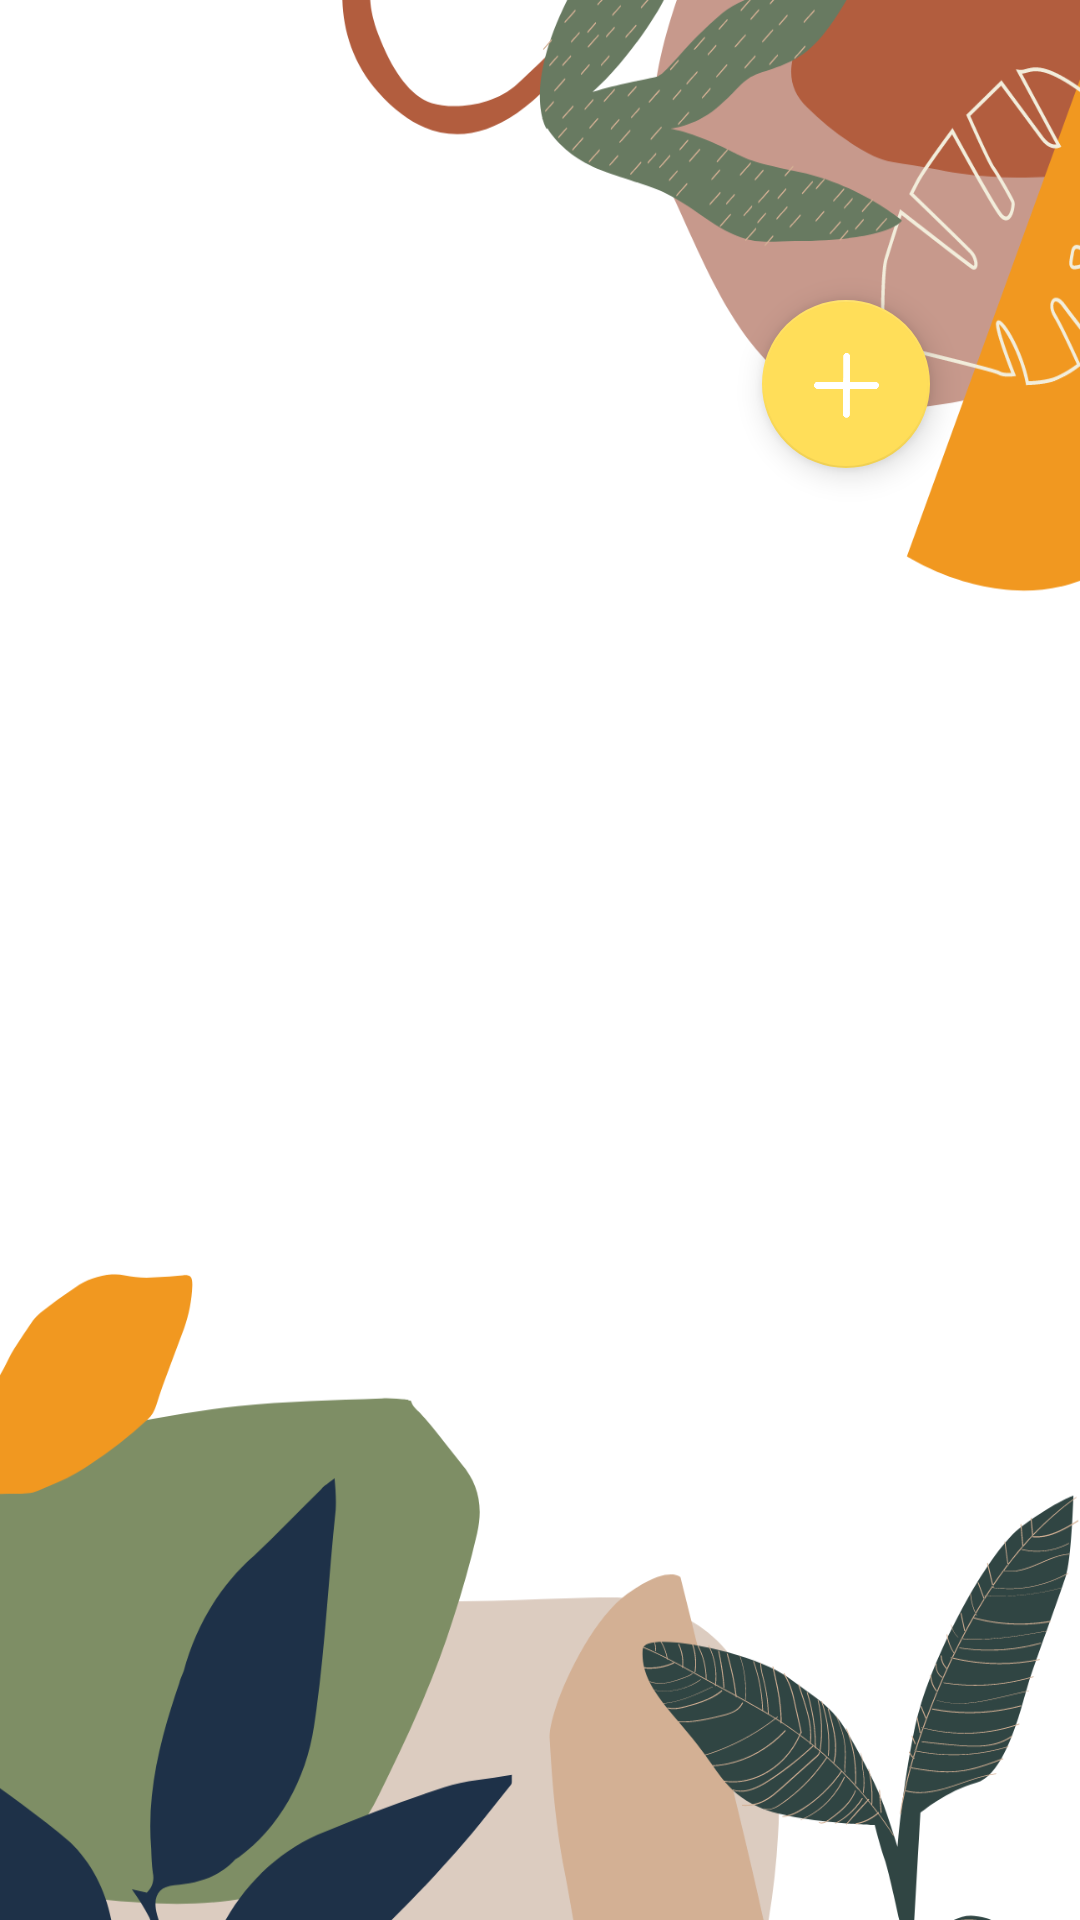

Named icons in this screenshot (1080 x 1920) and their centers, point (x, y):
plus wh: point (846, 384)
